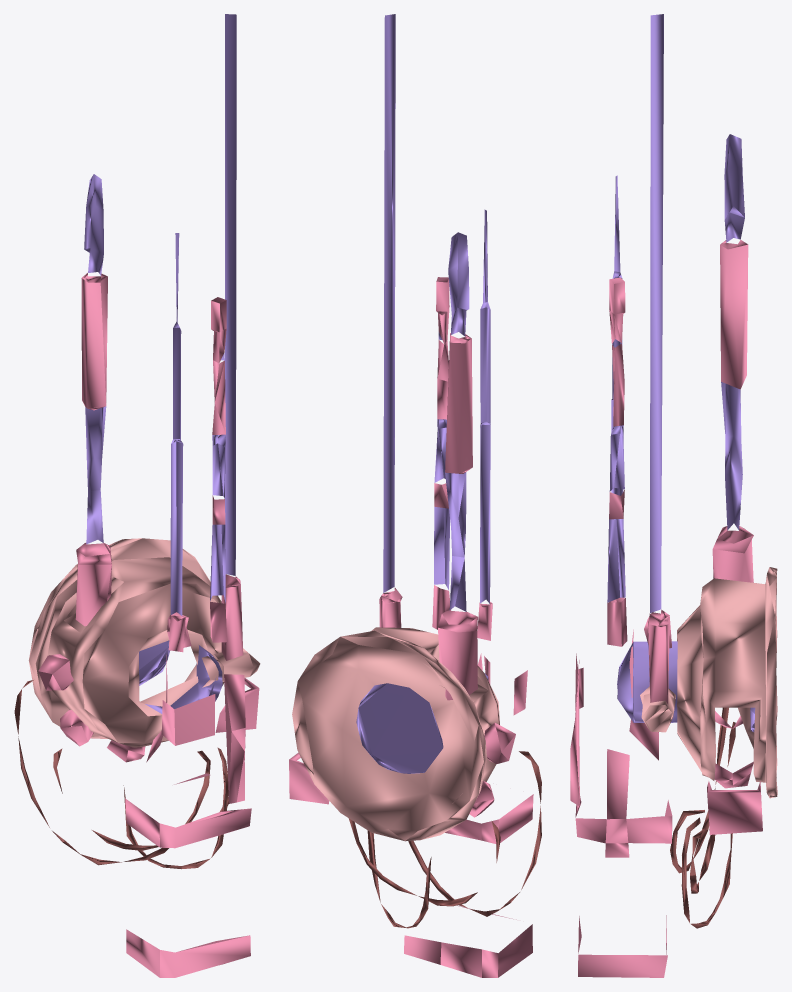
File: antenna_b_lod2.glb
3 views of the same model, side by side, from view 1: azimuth 30°, elevation 25°; view 2: azimuth 150°, elevation 25°; view 3: azimuth 270°, elevation 25° (orthographic). The views are drawn at different scales.
Bounding box in the file's own units: 8.46 × 31.61 × 6.1.
